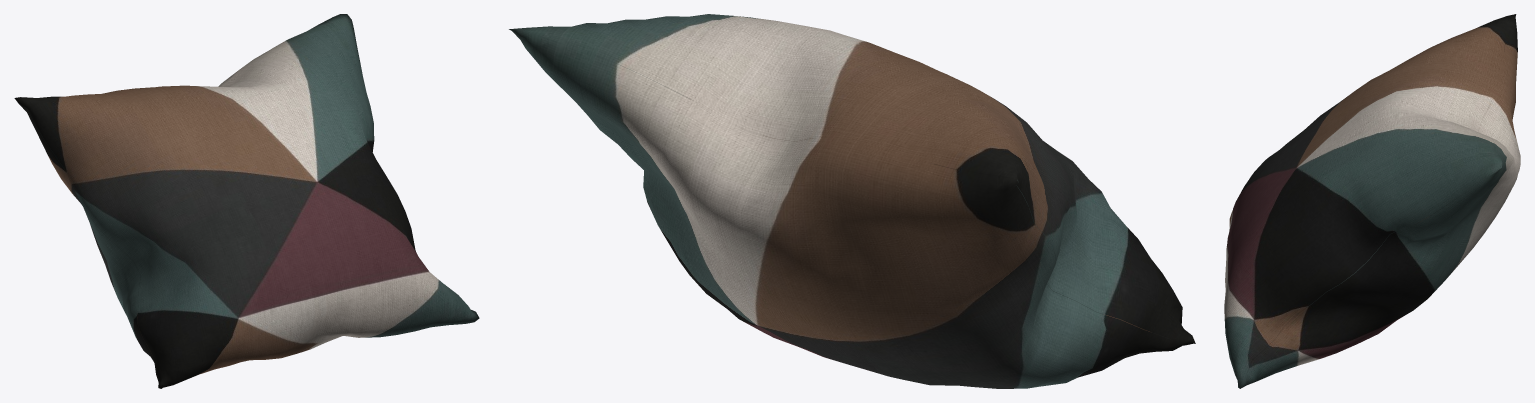
File: Textile_pillow_03.glb
The picture shows the model from 3 angles, left to right: view 1: azimuth 30°, elevation 25°; view 2: azimuth 150°, elevation 25°; view 3: azimuth 270°, elevation 25°; orthographic projection. The views are drawn at different scales.
Parts seen in each view (by area): view 1: pillow_03; view 2: pillow_03; view 3: pillow_03.
Part boxes in pixels (box(x1,y1,x2,y2)): pillow_03: box(14, 14, 479, 388); pillow_03: box(509, 14, 1195, 388); pillow_03: box(1224, 14, 1520, 388).
Bounding box in the file's own units: 0.4739 × 0.2966 × 0.3573.
1 material, 1 textured.
